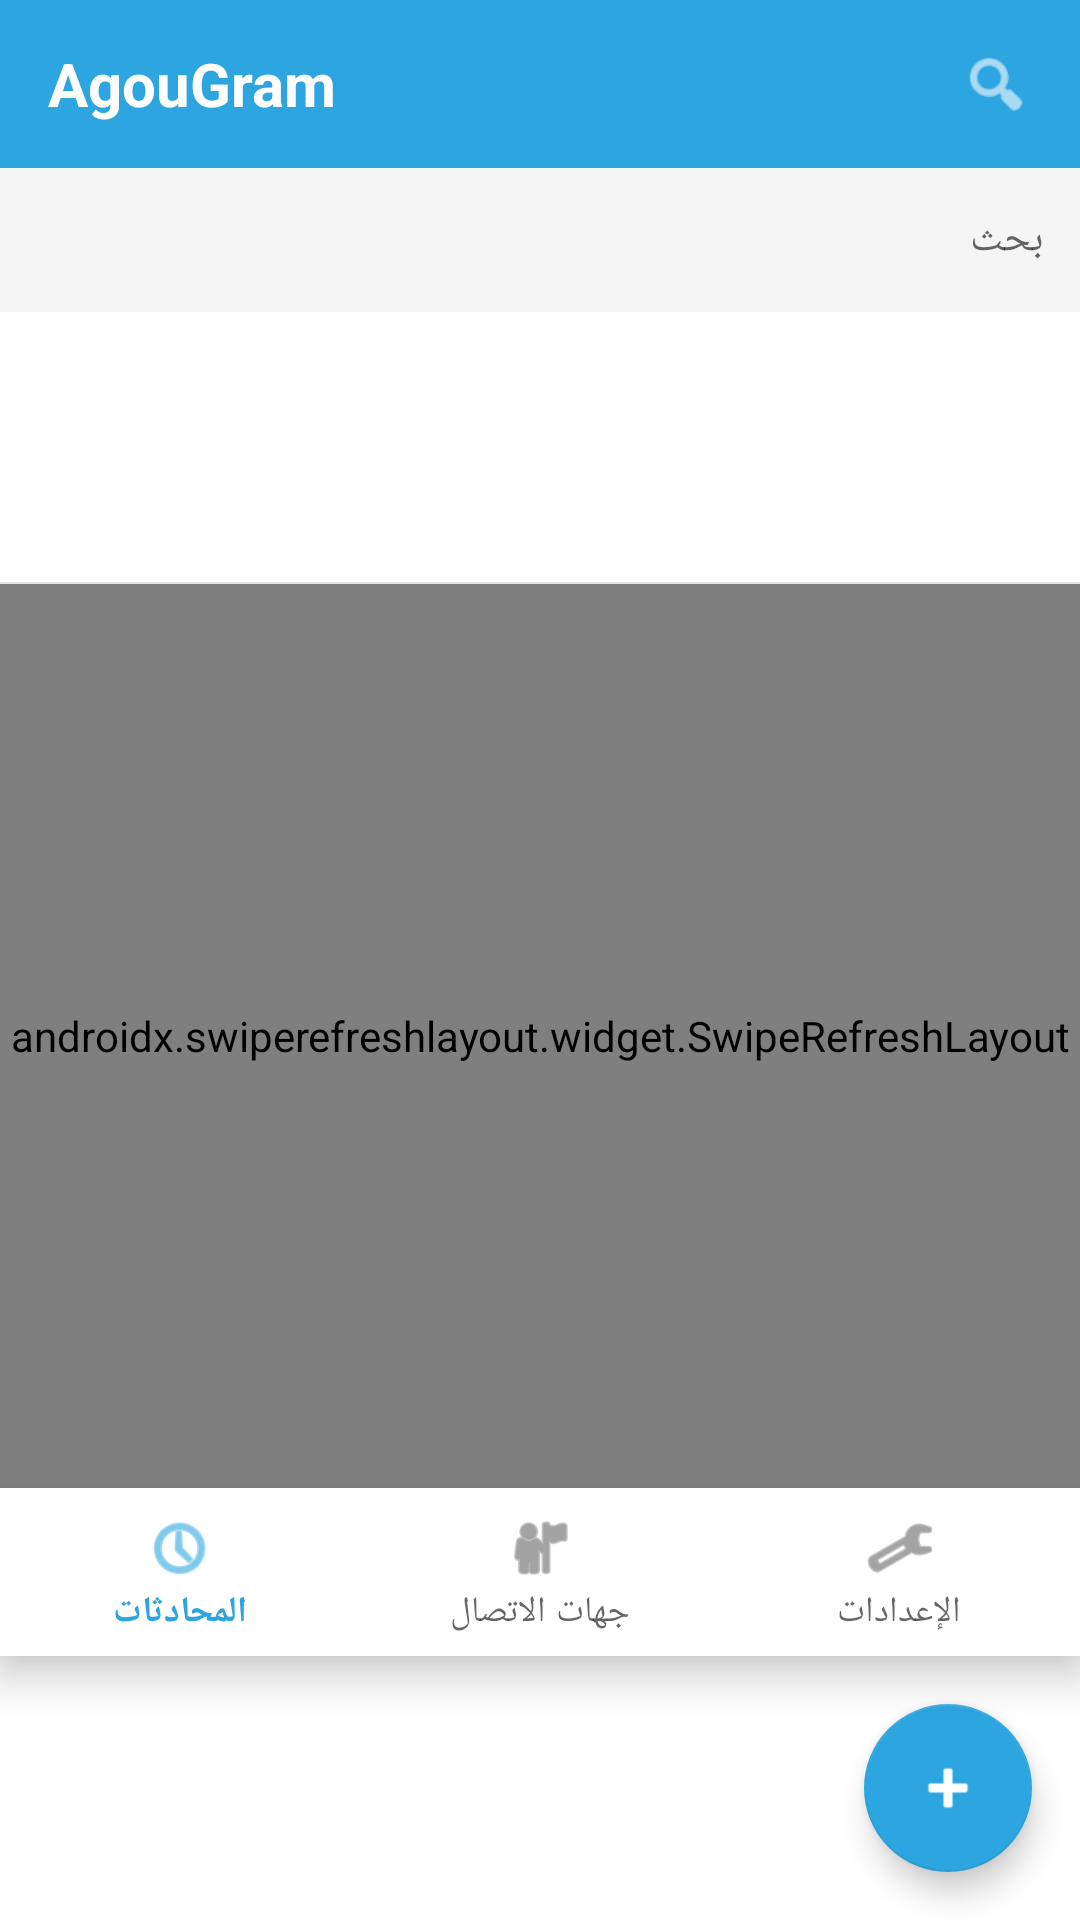

Named icons in this screenshot (1080w x 1920h) and their centers, [x,y]:
add: [948,1788]
search: [996,84]
